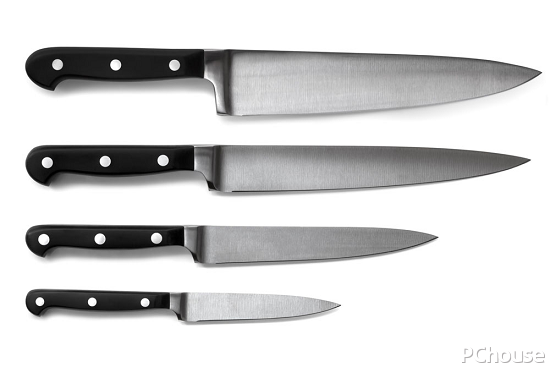knief: (21, 30, 549, 117), (22, 138, 544, 201)
